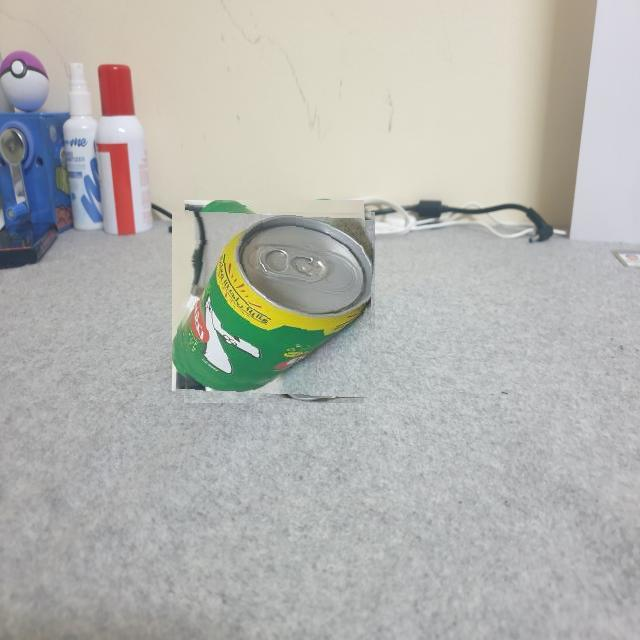recyclable: (177, 205, 371, 398)
